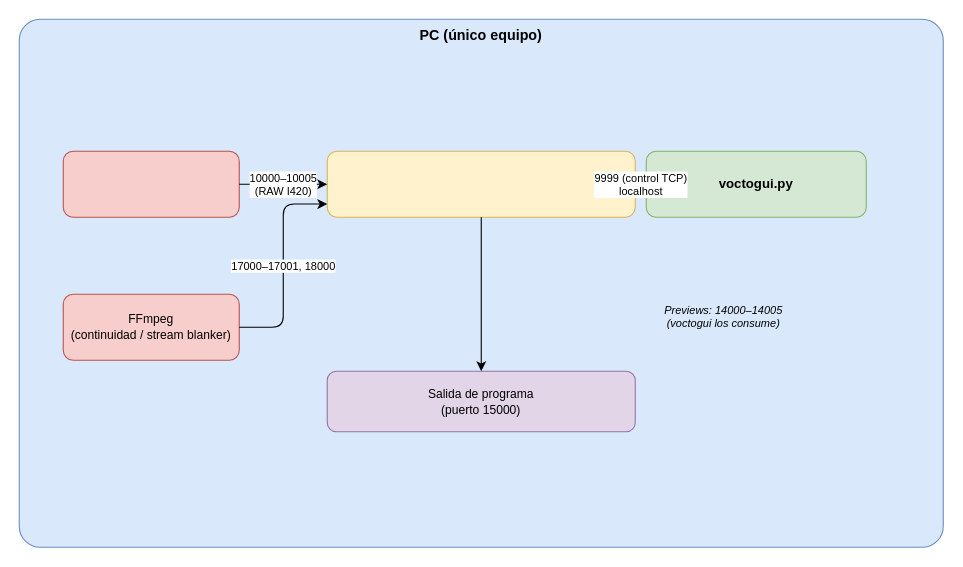
Image size: 963x567. Some labels were removed from this diagram. Here are the shapes that lost their labels. From the top down, the centre of each, then its label:
At [150,183]: "FFmpeg (cámaras sintéticas)".
At [480,183]: "voctocore.py".
